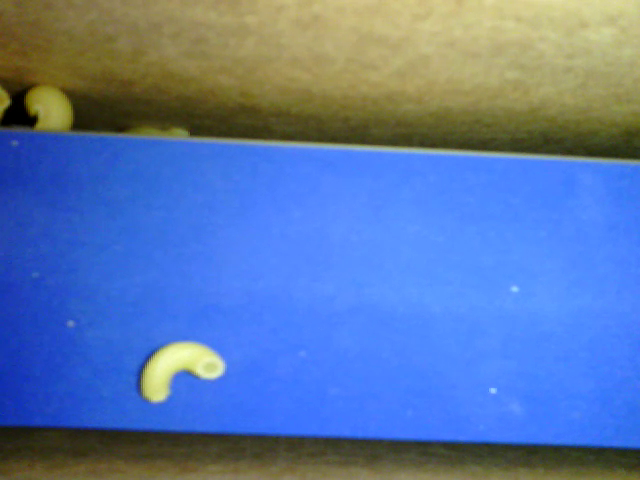elbow: (141, 341, 227, 404)
shell: (24, 85, 72, 136)
